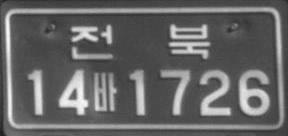1: (125, 68, 154, 116), (23, 69, 52, 115)
2: (198, 68, 232, 116)
4: (59, 68, 89, 115)
6: (237, 68, 270, 117)
7: (159, 68, 190, 116)
바: (92, 71, 117, 111)
전북_D: (70, 23, 211, 59)
